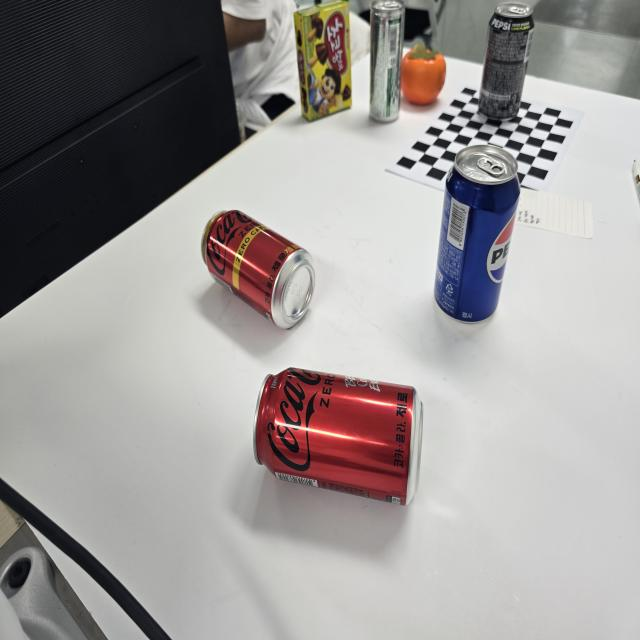can_coke_decaf: (201, 209, 315, 329)
can_coke_zero: (253, 367, 423, 505)
can_pepsi: (434, 145, 520, 322)
